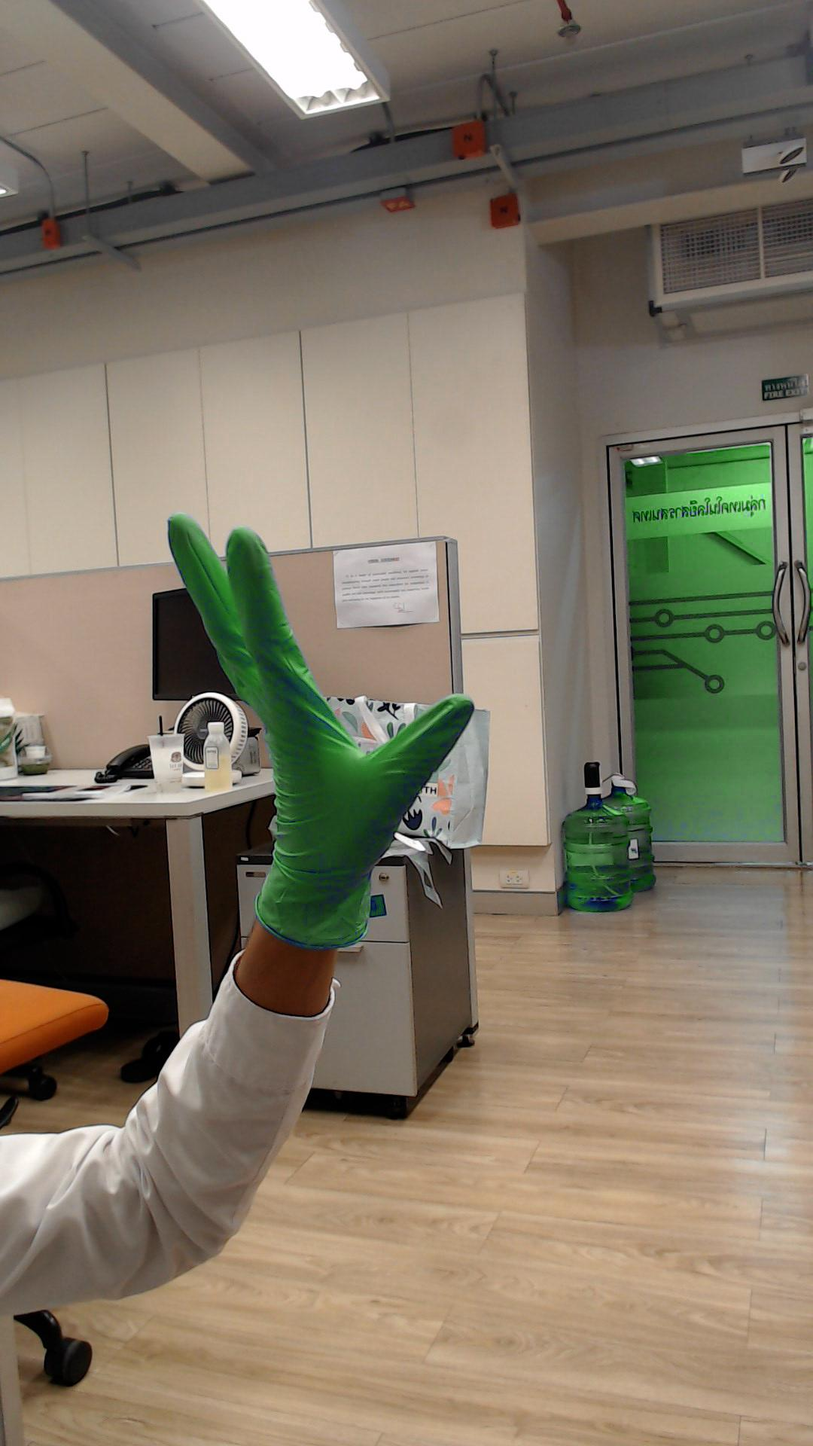gloves: (156, 497, 490, 877)
